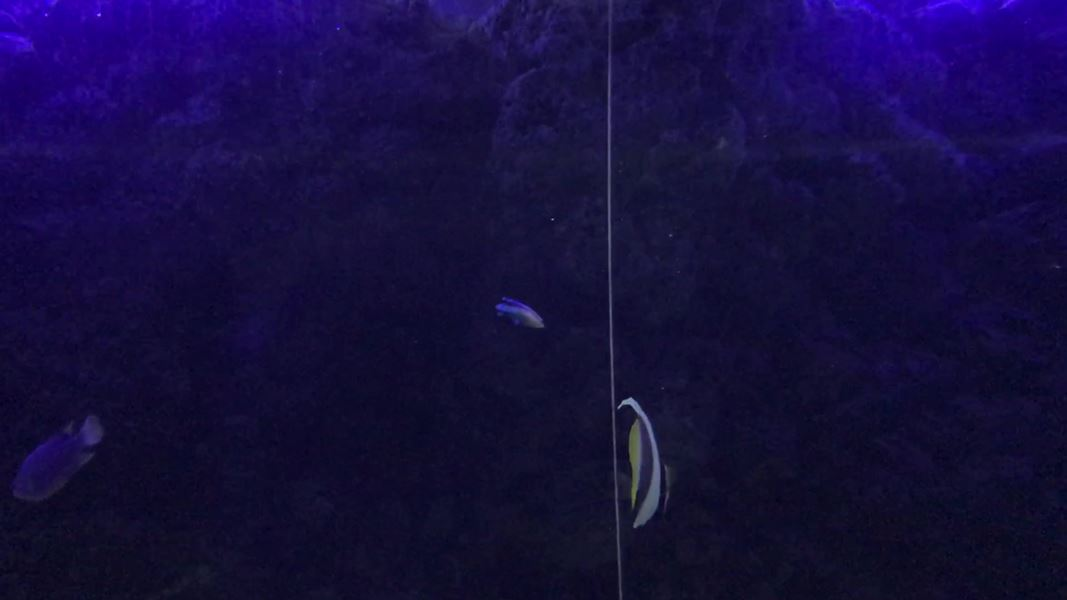Bluesteak cleaner wrasse: (488, 286, 548, 332)
